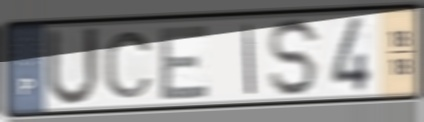4: (329, 14, 373, 96)
C: (101, 29, 156, 101)
E: (157, 22, 212, 103)
I: (242, 22, 257, 97)
S: (266, 15, 323, 99)
U: (44, 25, 103, 110)
